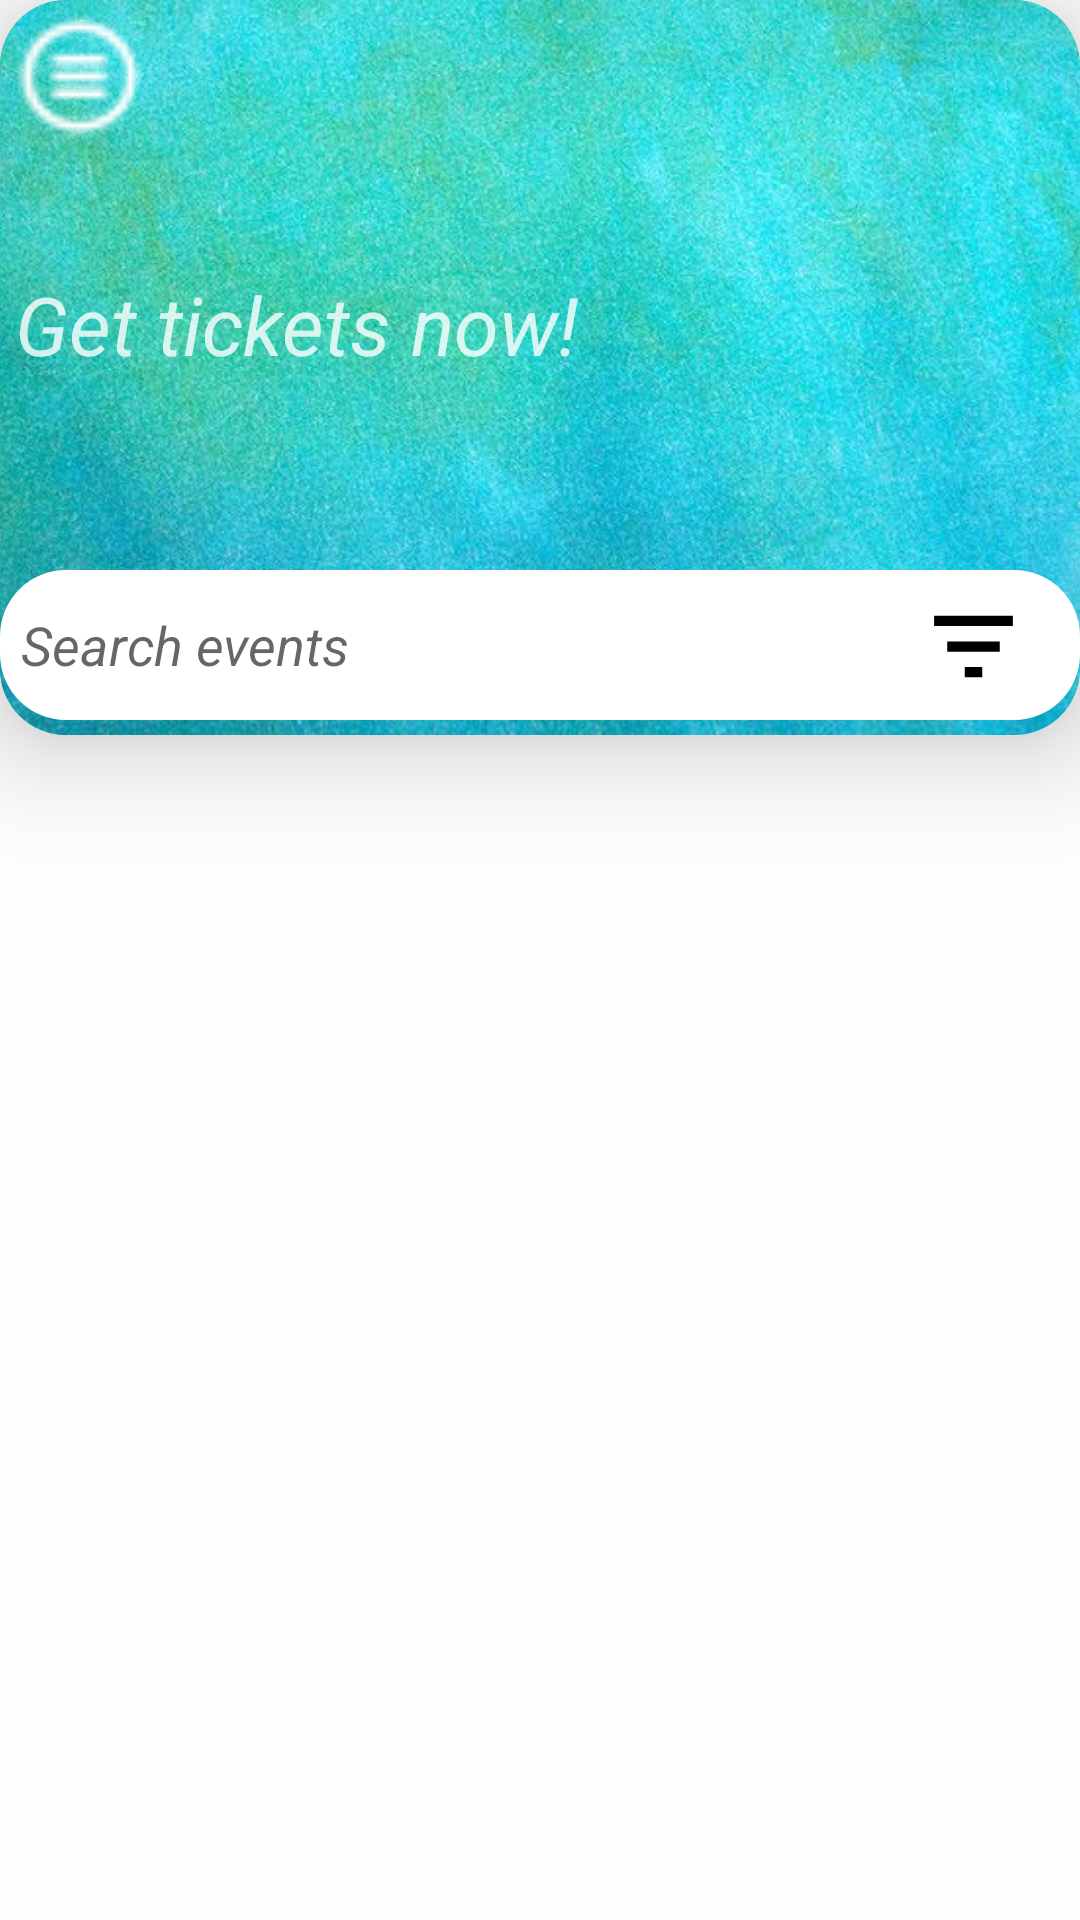

Icons on this 1080×1920 Android screen, each with the point to tap as point (x, y):
filter list: point (973, 646)
menuwhite: point (79, 76)
